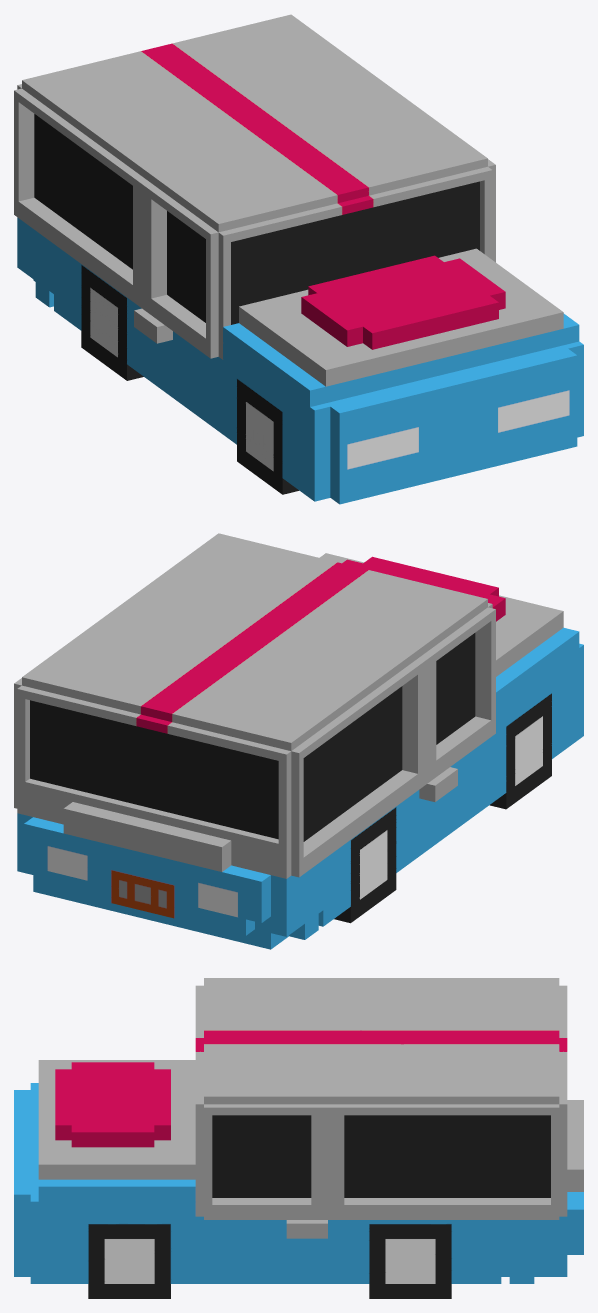
The model's file is Character_4.fbx.
3 views of the same model, one above another, from view 1: azimuth 30°, elevation 25°; view 2: azimuth 150°, elevation 25°; view 3: azimuth 270°, elevation 25° (orthographic). The views are drawn at different scales.
Parts seen in each view (by area): view 1: Character_4; view 2: Character_4; view 3: Character_4.
Part boxes in pixels (x1=…): Character_4: x1=14, y1=14, x2=583, y2=504; Character_4: x1=14, y1=533, x2=583, y2=949; Character_4: x1=14, y1=978, x2=583, y2=1298.
Size of the model in its own units: 38 by 27 by 69.
